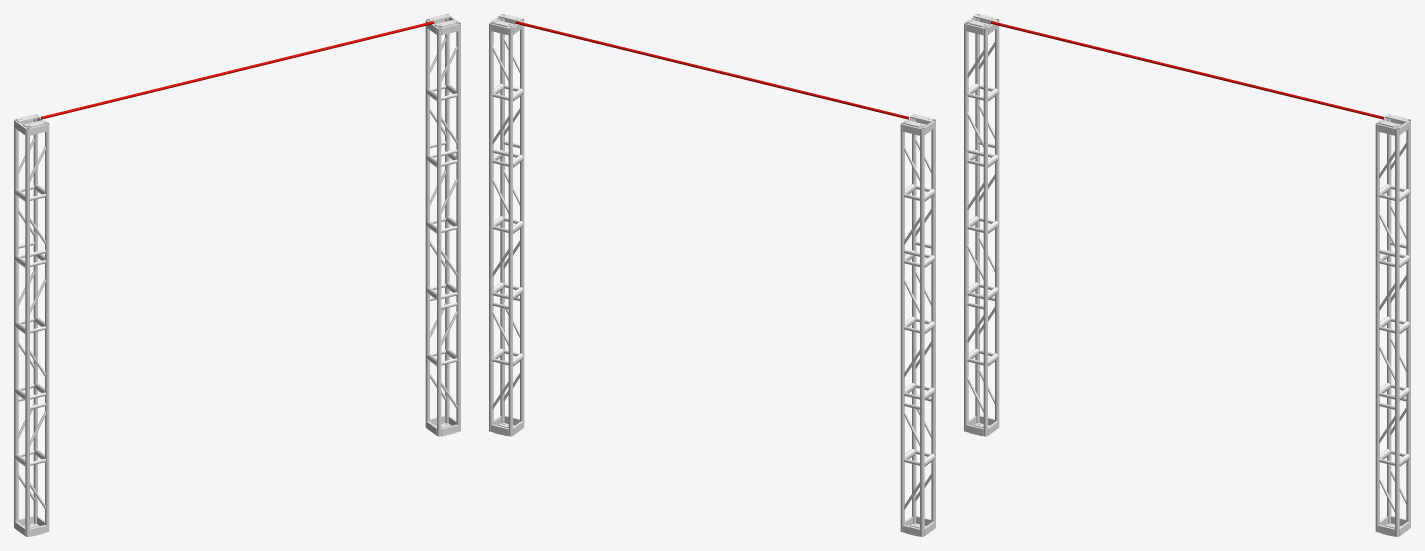
File: truss_with_hose.dae
The picture shows the model from 3 angles, left to right: view 1: azimuth 30°, elevation 25°; view 2: azimuth 150°, elevation 25°; view 3: azimuth 330°, elevation 25°; orthographic projection.
Visible parts, largest first — view 1: 67d9fd59bae1bb607e70570d.001, 67d9fd59bae1bb607e70570d.051, Cylinder; view 2: 67d9fd59bae1bb607e70570d.001, 67d9fd59bae1bb607e70570d.051, Cylinder; view 3: 67d9fd59bae1bb607e70570d.001, 67d9fd59bae1bb607e70570d.051, Cylinder.
Boxes of the visible parts, x1,y1,x2,y2 form: 67d9fd59bae1bb607e70570d.001: (14, 114, 49, 536); 67d9fd59bae1bb607e70570d.051: (425, 14, 460, 436); Cylinder: (41, 21, 434, 119); 67d9fd59bae1bb607e70570d.001: (900, 114, 935, 536); 67d9fd59bae1bb607e70570d.051: (489, 14, 524, 436); Cylinder: (515, 21, 908, 119); 67d9fd59bae1bb607e70570d.001: (964, 14, 999, 436); 67d9fd59bae1bb607e70570d.051: (1375, 114, 1410, 536); Cylinder: (991, 21, 1384, 119).
Size of the model in its own units: 2.22 by 0.12 by 2.01.
